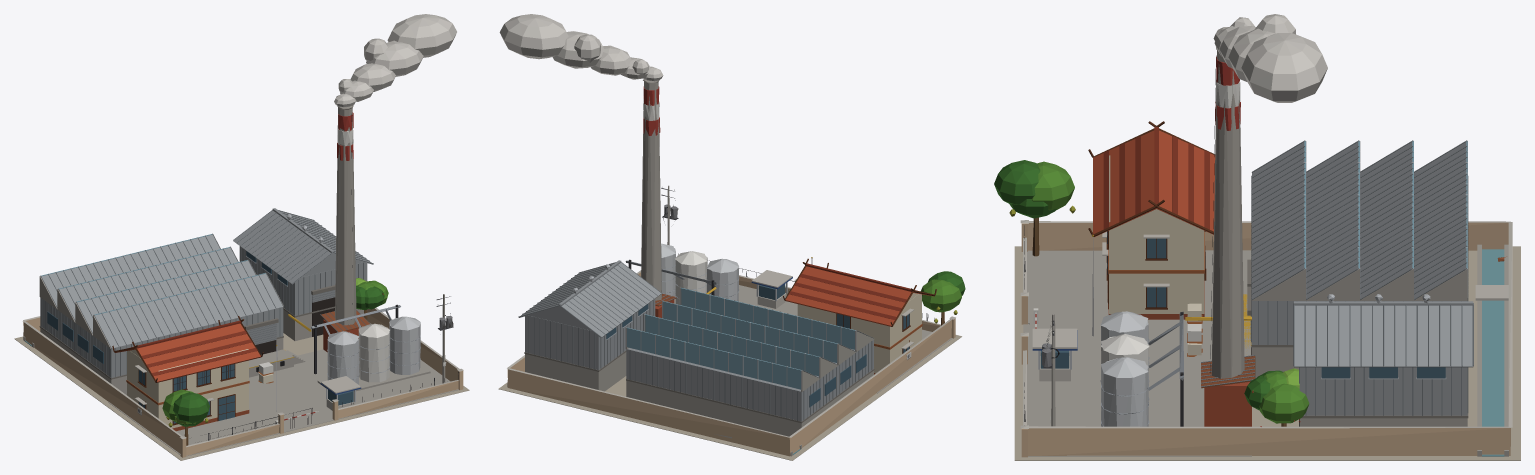
File: factory_4.glb
3 views of the same model, side by side, from view 1: azimuth 30°, elevation 25°; view 2: azimuth 150°, elevation 25°; view 3: azimuth 270°, elevation 25° (orthographic). The views are drawn at different scales.
Parts seen in each view (by area): view 1: body, windows; view 2: body, windows; view 3: body, windows.
Boxes of the visible parts, x1,y1,x2,y2 form: body: [14, 14, 469, 460]; windows: [47, 251, 353, 423]; body: [498, 14, 965, 460]; windows: [606, 284, 909, 407]; body: [994, 14, 1520, 460]; windows: [1040, 238, 1445, 426].
Bounding box in the file's own units: 40.53 × 31.41 × 33.2.
